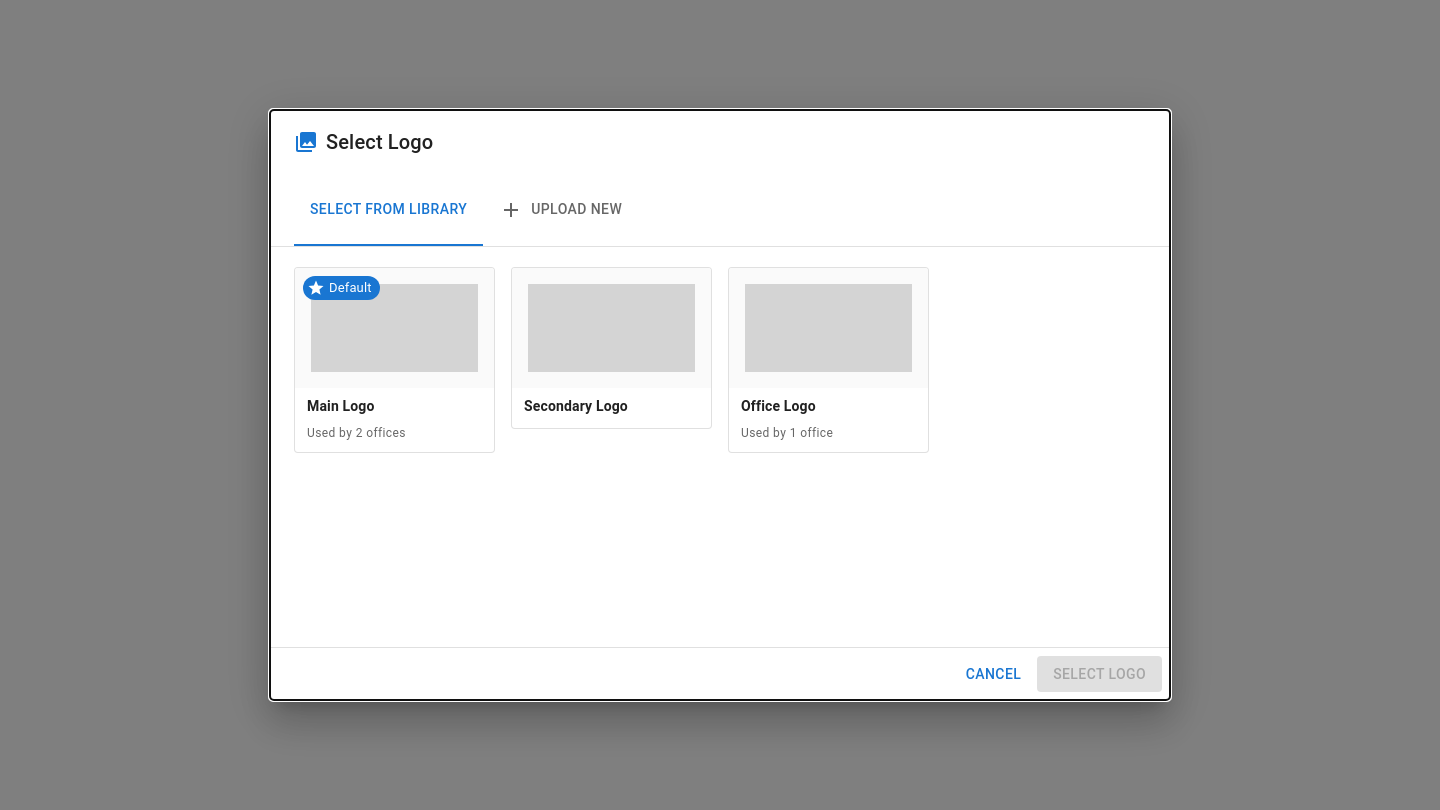
Test: LogoPickerDialog › logo selection › should update selection when logo is clicked
Expected: the text "Secondary Logo" is shown, [524,398,628,414]
Note: Click on a logo
Click the element with test id "logo-card-logo-2".
click(612, 348)  # box [511,267,712,429]
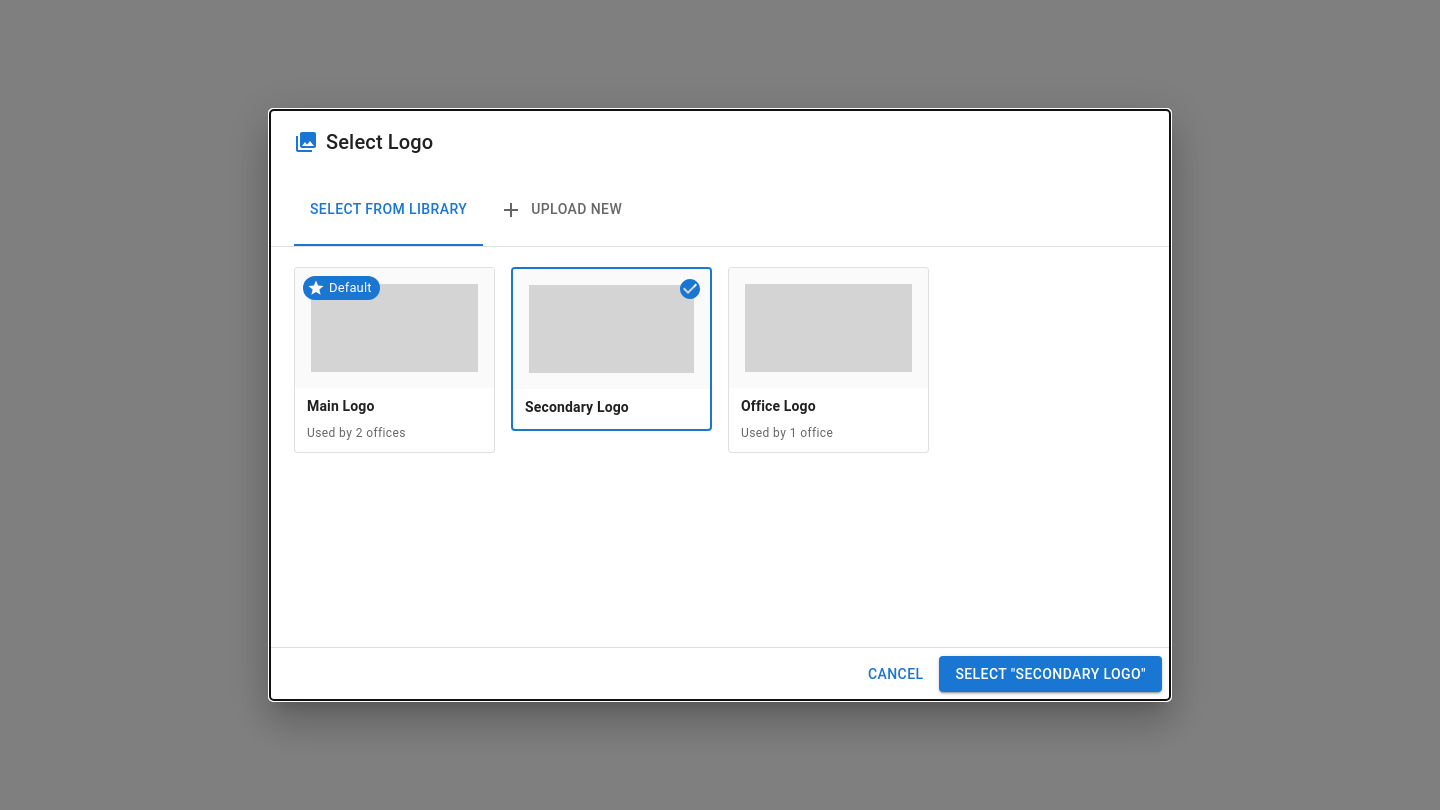
Now the button "Select \"Secondary Logo\"" is shown, box [939,656,1162,692]
